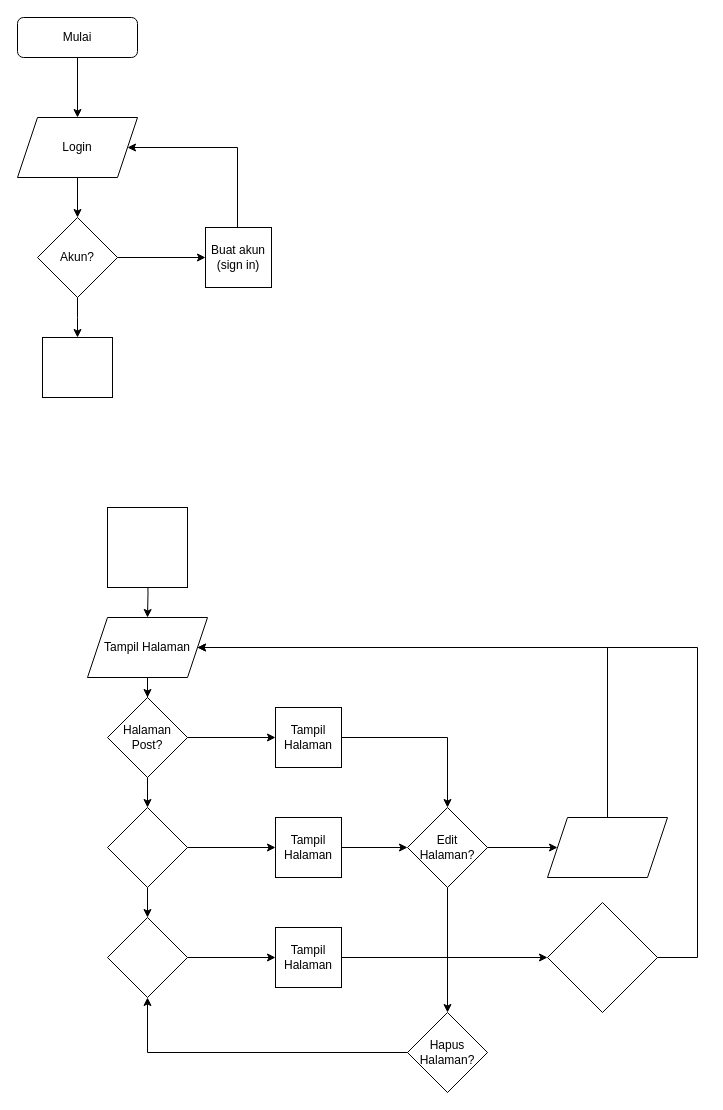
Image size: 723x1110. Some labels were removed from this diagram. Each missing label, with the box of its shape:
Autentikasi Pengguna: (42, 336, 112, 398)
Edit sesuai Id: (546, 816, 668, 878)
Halaman Create?: (106, 806, 188, 888)
Halaman Delete?: (106, 916, 188, 998)
Hapus Halaman Selamanya?: (546, 902, 658, 1012)
Tampil Pengguna: (106, 506, 188, 588)
